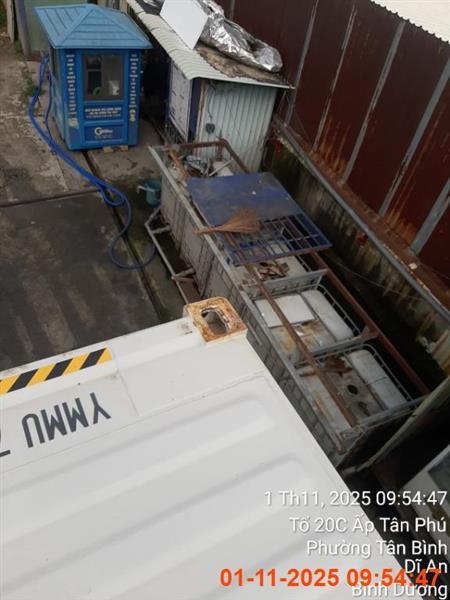broken: (0, 295, 426, 598)
